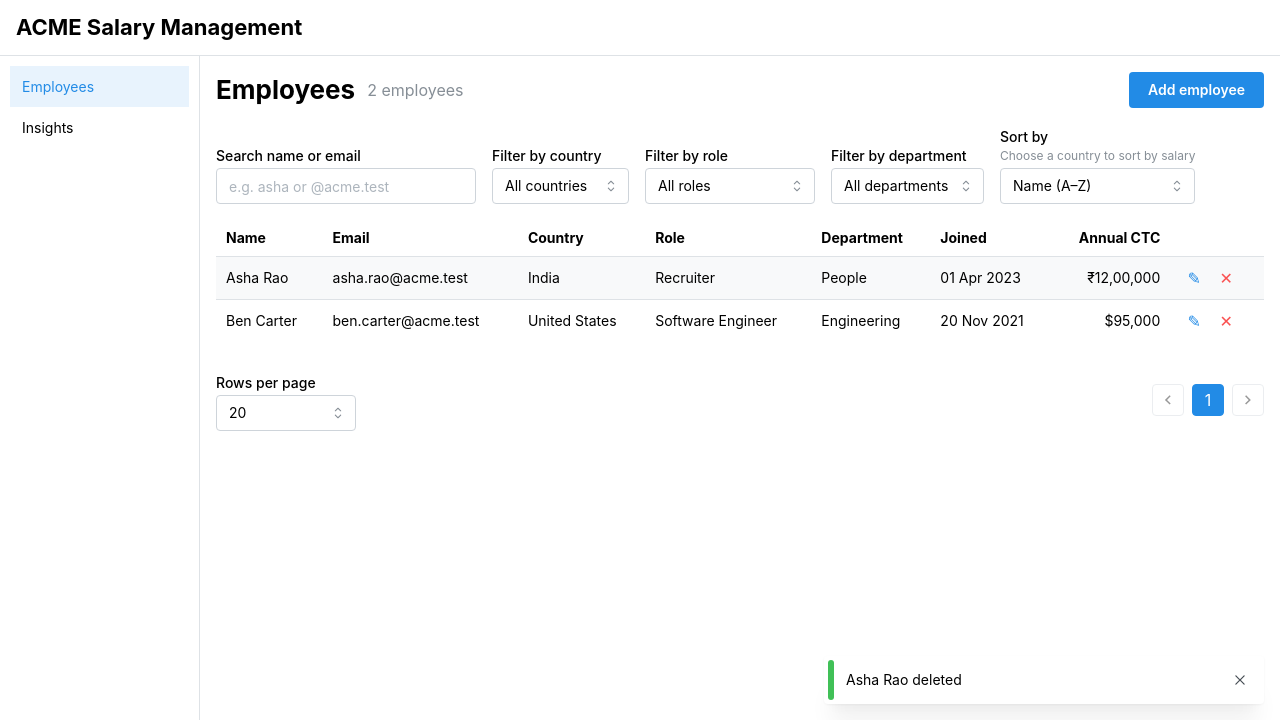
Test: Delete employee › keeps the dialog open with the reason when the delete fails
This screenshot has width=1280, height=720.
Click the button named "Delete Asha Rao" at coordinates (1226, 278), box [1212,264,1240,292]
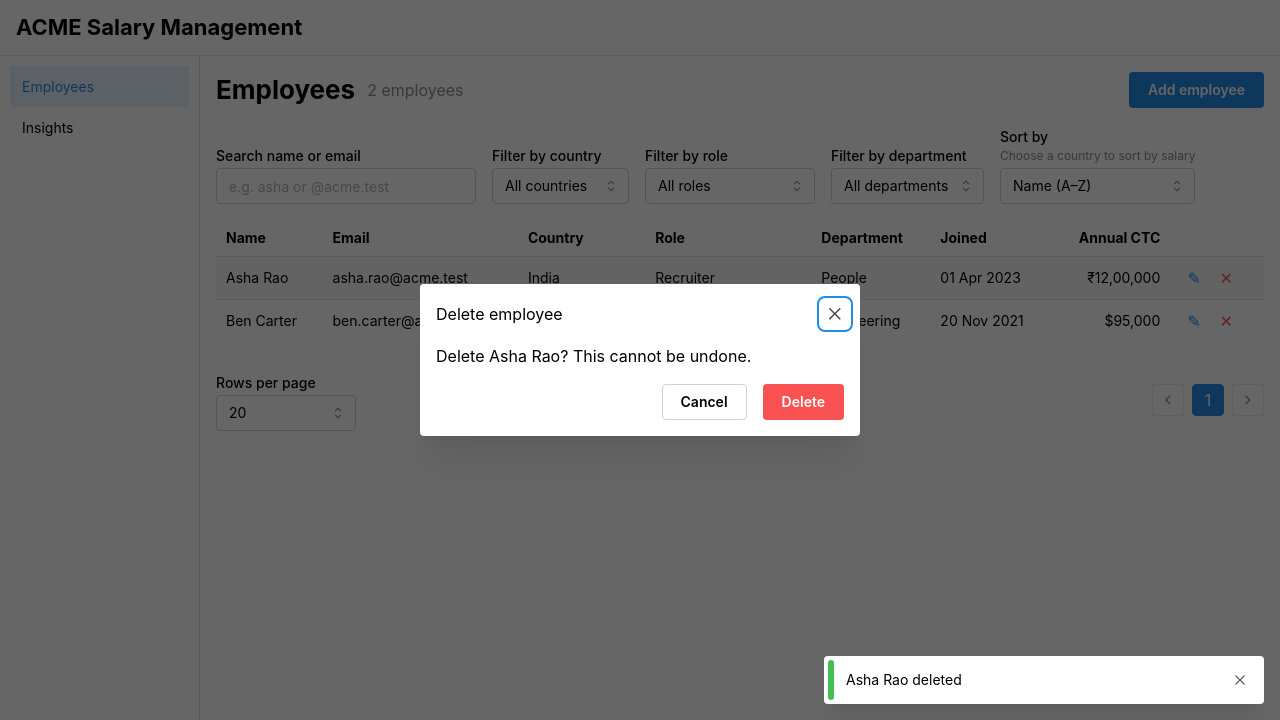
Click the button "Delete" at coordinates (803, 402), box [763,384,844,420]
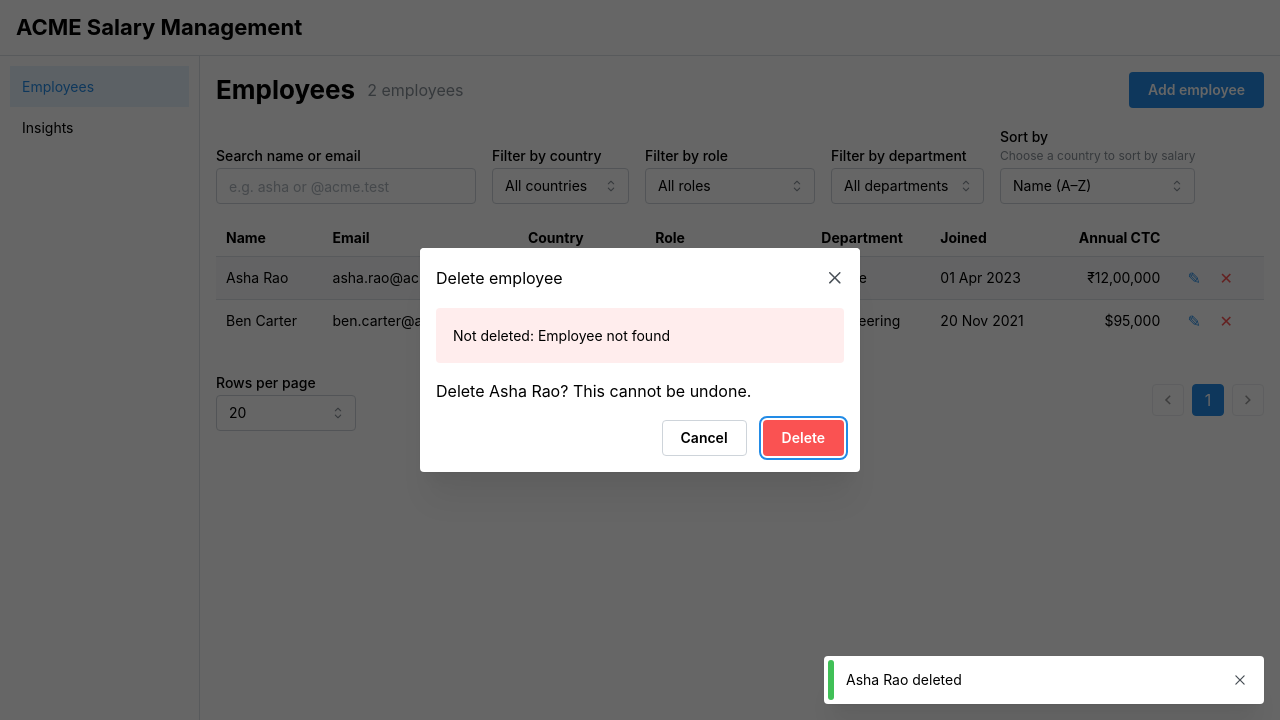
Now the message "Not deleted: Employee not found" is shown, box [436,308,844,364]
